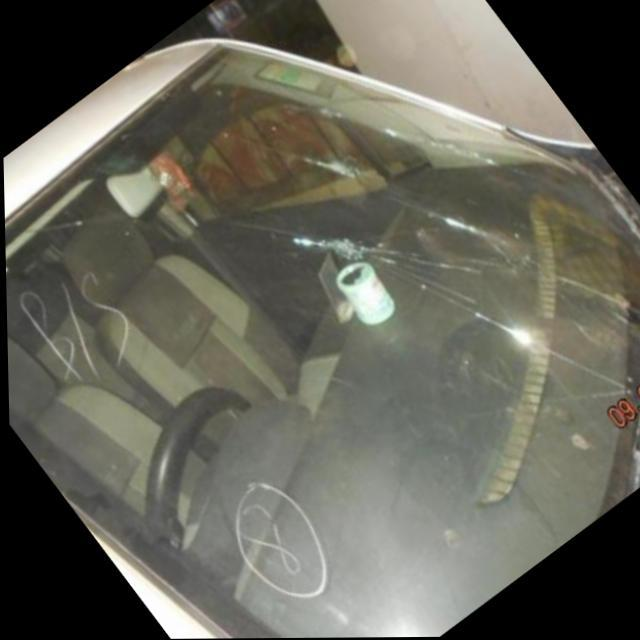glass shatter: (372, 124, 505, 171), (434, 214, 514, 248), (300, 153, 367, 184), (310, 228, 367, 260), (310, 104, 347, 121)
